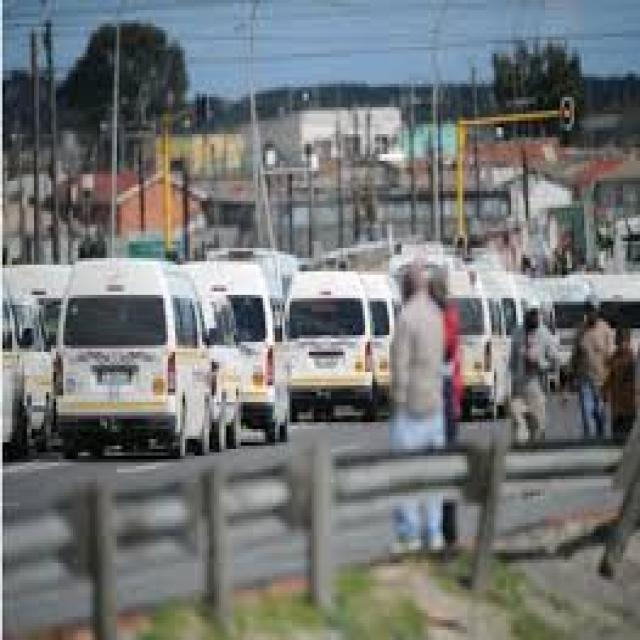MiniBus taxi: (51, 248, 209, 459), (268, 268, 384, 429)
